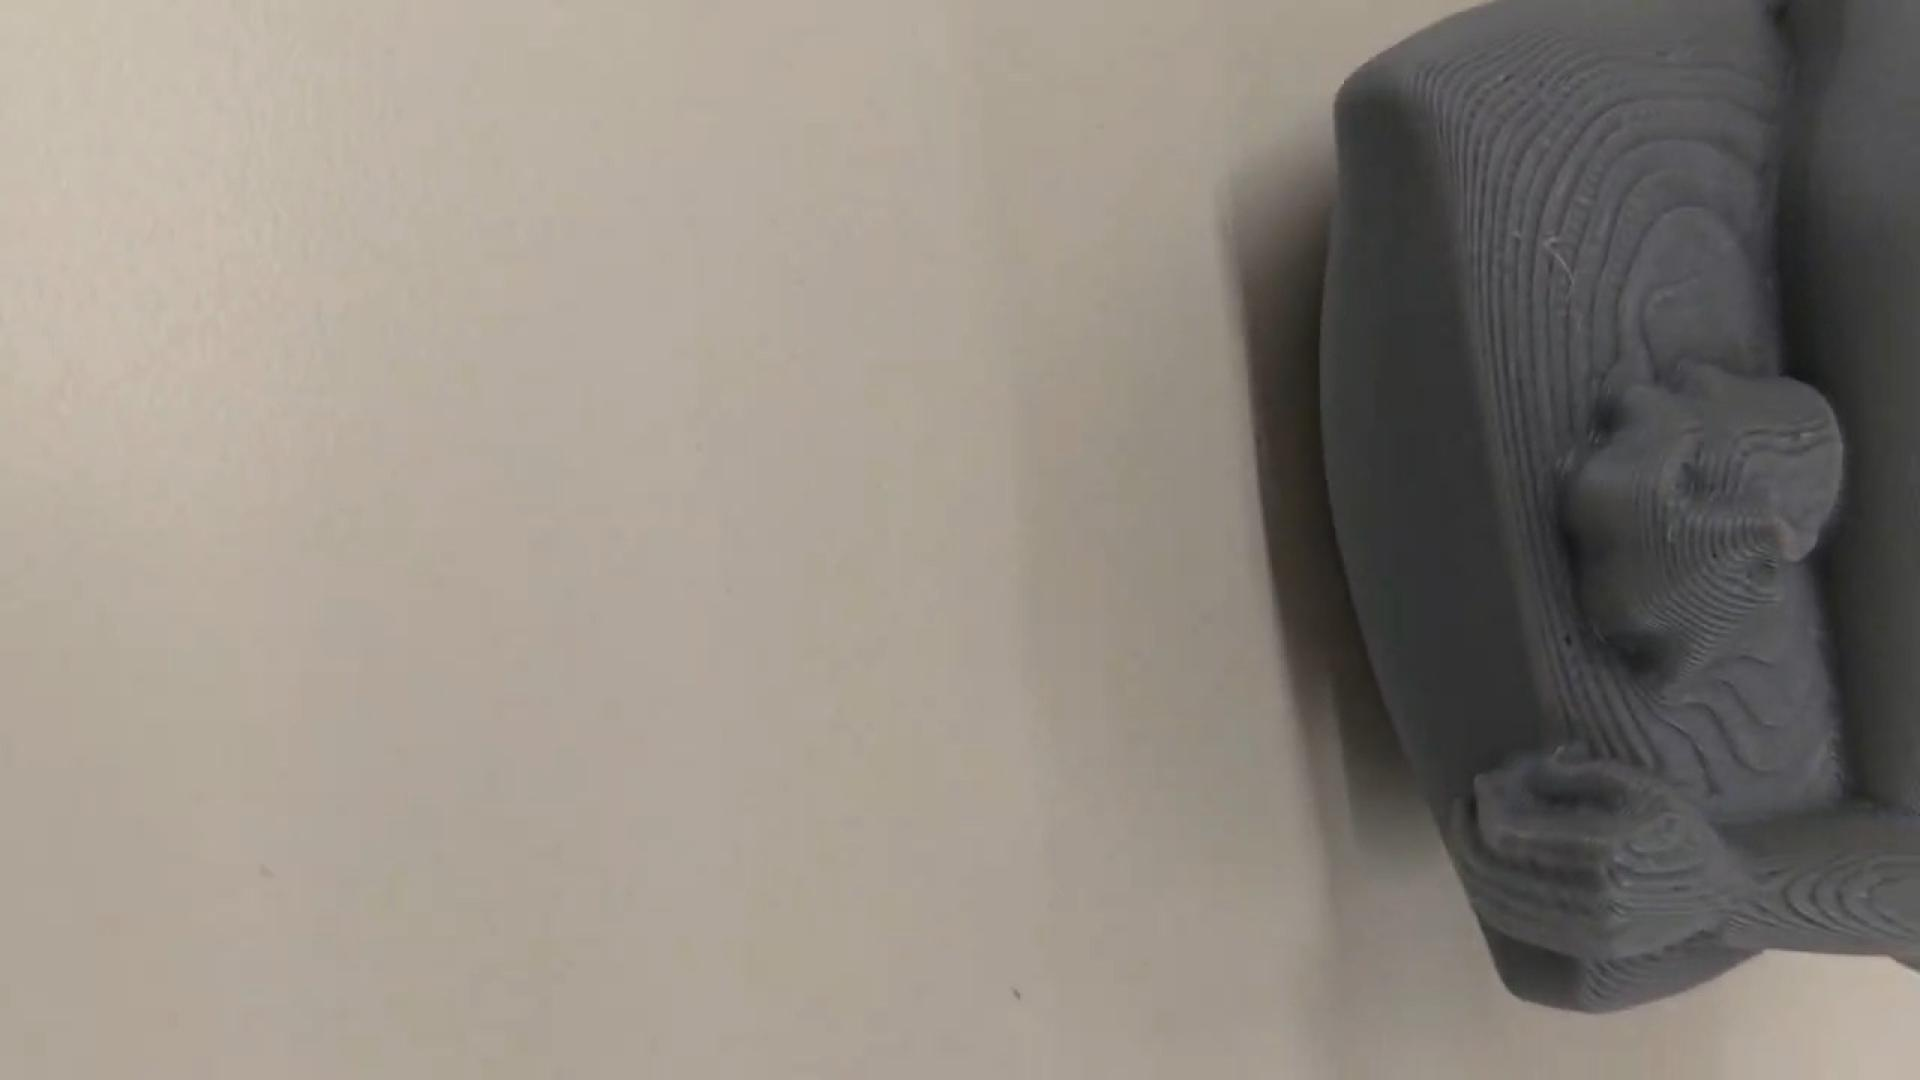Bad-style: (1325, 0, 1920, 1019)
